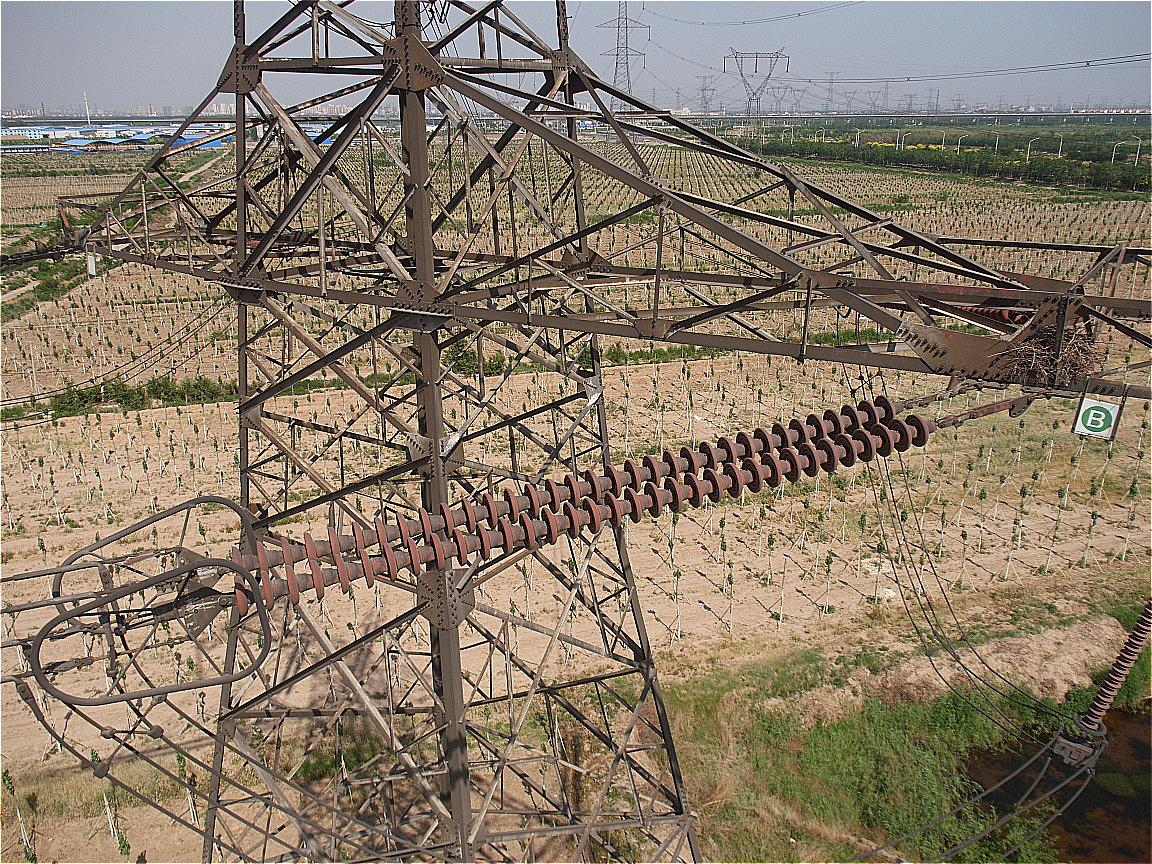insultor1: (216, 394, 949, 614)
